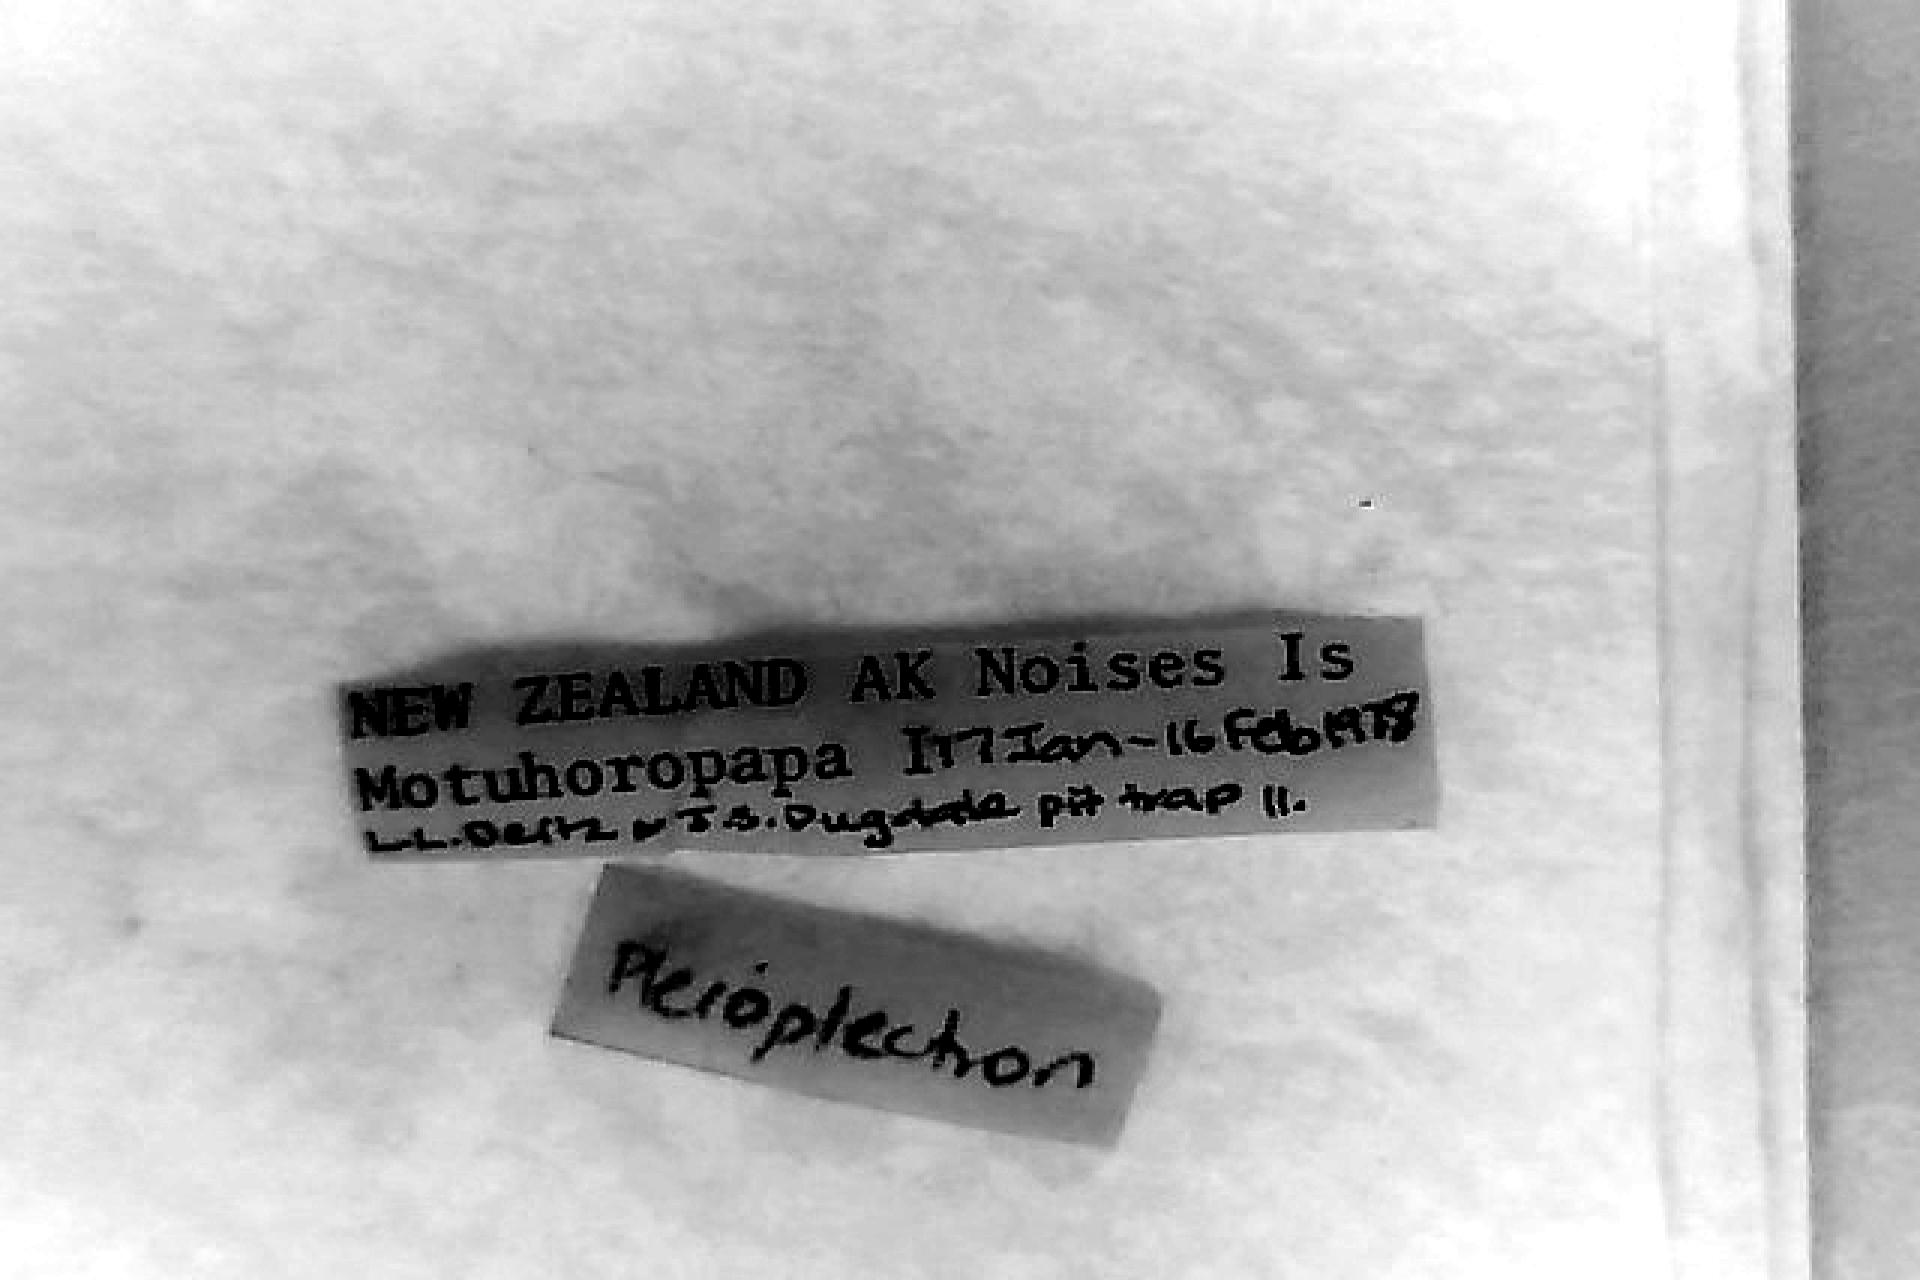hand_label: (551, 871, 1159, 1146)
mixed_label: (341, 617, 1436, 859)
